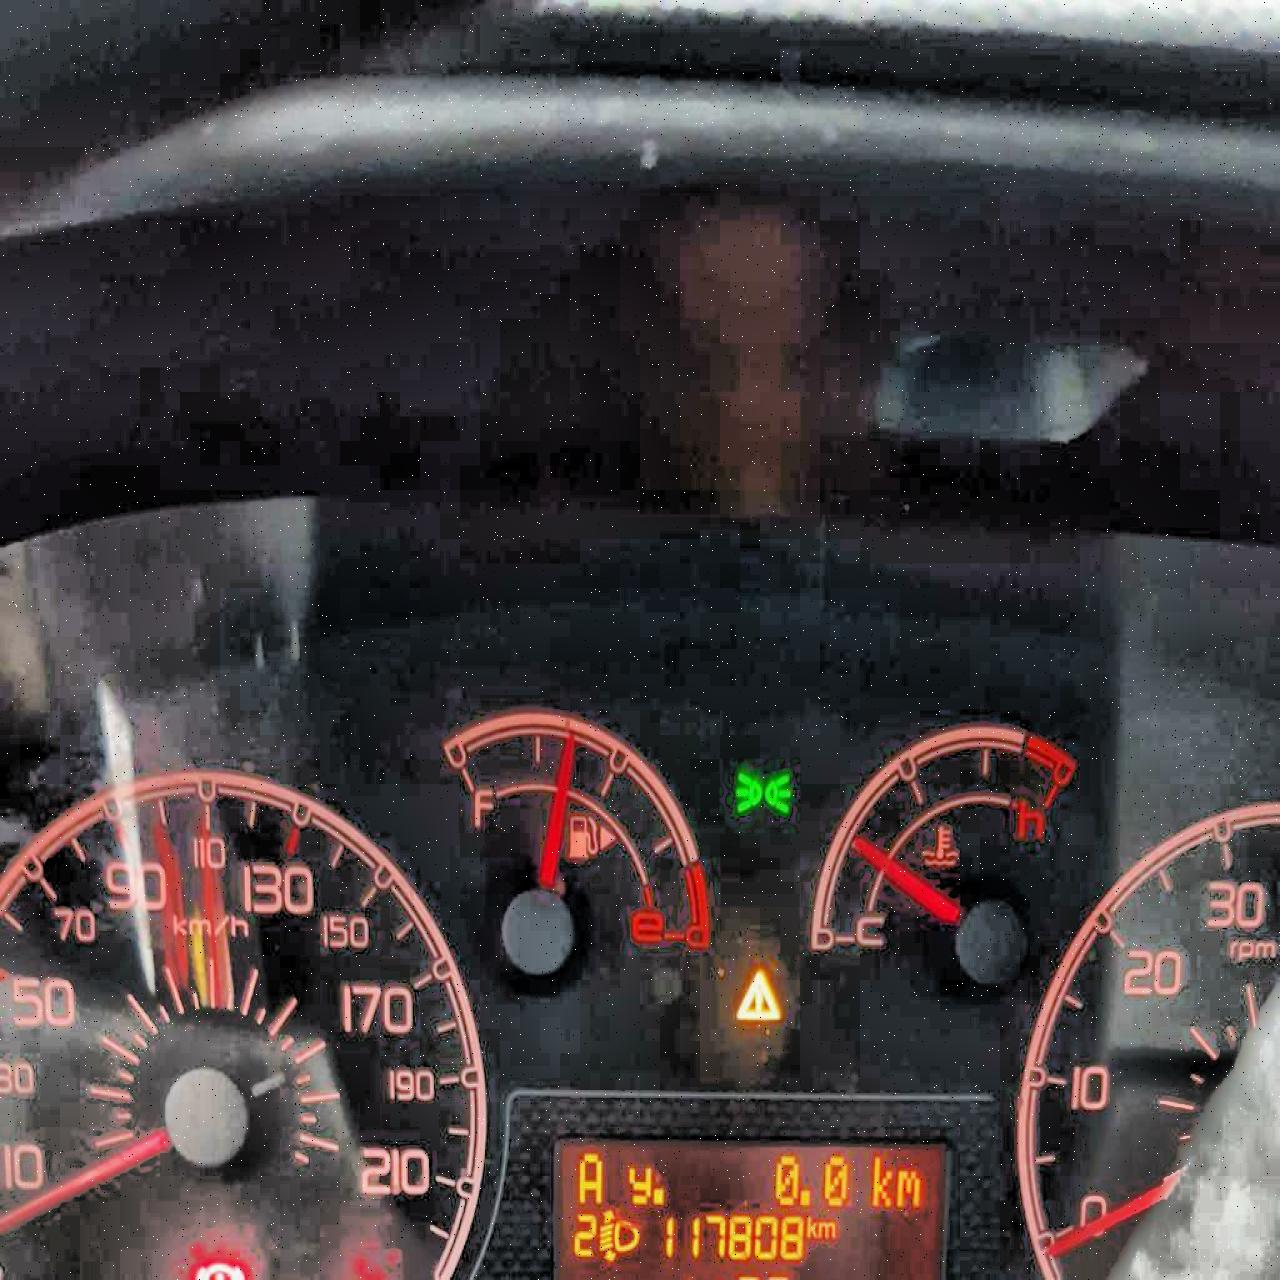-: (797, 1184, 812, 1208), (651, 1183, 665, 1207)
0: (821, 1151, 851, 1207), (775, 1153, 797, 1205), (754, 1214, 776, 1260)
1: (688, 1211, 700, 1259), (662, 1213, 673, 1260)
2: (574, 1211, 594, 1257)
7: (704, 1211, 726, 1259)
8: (726, 1211, 750, 1261), (782, 1212, 803, 1261)
X: (576, 1150, 602, 1205), (869, 1152, 893, 1210), (897, 1166, 921, 1206), (628, 1166, 651, 1205), (817, 1219, 837, 1239), (806, 1213, 816, 1238)
odometer: (552, 1126, 952, 1271)
